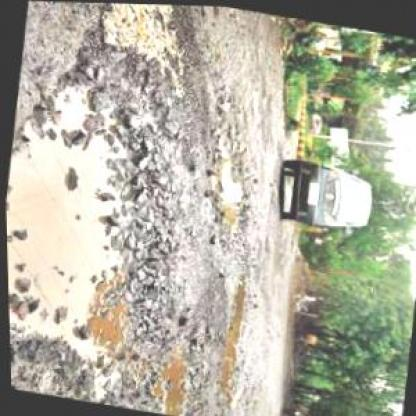pothole: (198, 135, 262, 237), (205, 272, 254, 398)
